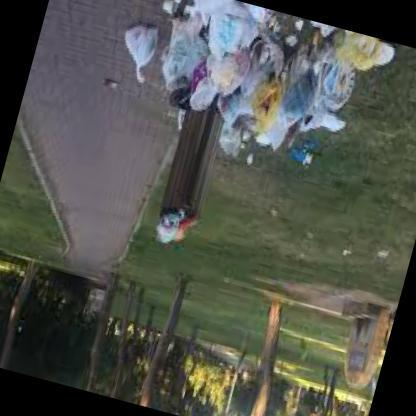Garbage: (196, 2, 371, 178), (99, 0, 230, 136), (196, 0, 264, 56), (114, 13, 163, 79), (235, 83, 280, 137), (326, 28, 384, 64), (209, 45, 246, 100), (281, 126, 318, 180), (152, 208, 194, 248), (286, 82, 310, 115)
